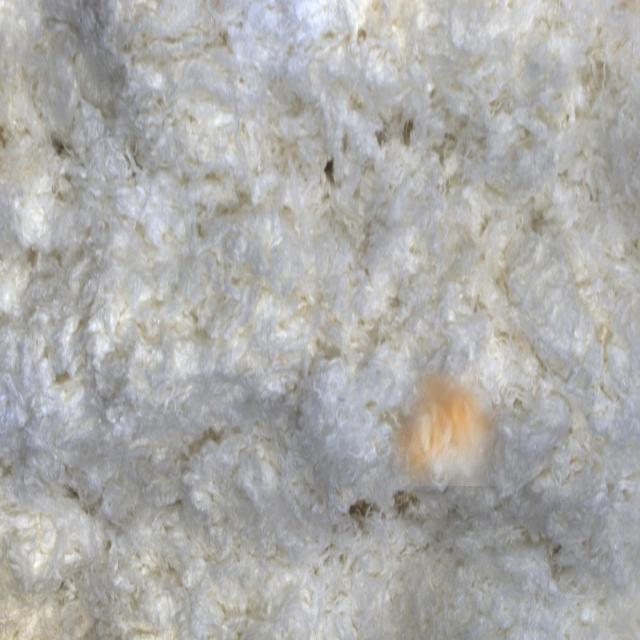dust: (389, 351, 510, 486)
